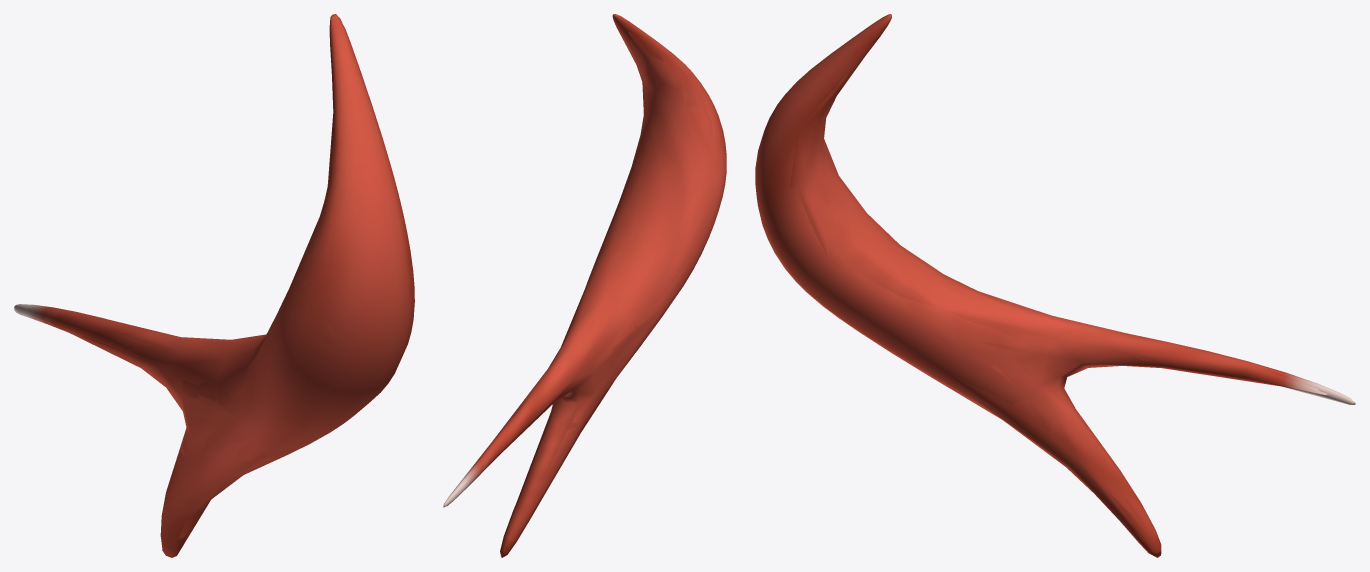
The model's file is L Biceps Brachii.fbx.
The picture shows the model from 3 angles, left to right: view 1: azimuth 30°, elevation 25°; view 2: azimuth 150°, elevation 25°; view 3: azimuth 270°, elevation 25°; orthographic projection. The views are drawn at different scales.
Parts seen in each view (by area): view 1: L Biceps Brachii, L Biceps Brachii low; view 2: L Biceps Brachii low, L Biceps Brachii; view 3: L Biceps Brachii, L Biceps Brachii low.
Part boxes in pixels (<box>): L Biceps Brachii: <box>14,14,414,557</box>; L Biceps Brachii low: <box>70,27,407,549</box>; L Biceps Brachii low: <box>498,32,726,557</box>; L Biceps Brachii: <box>443,14,726,557</box>; L Biceps Brachii: <box>755,14,1355,557</box>; L Biceps Brachii low: <box>756,24,1347,554</box>.
Bounding box in the file's own units: 3.02 × 14.96 × 14.99.
